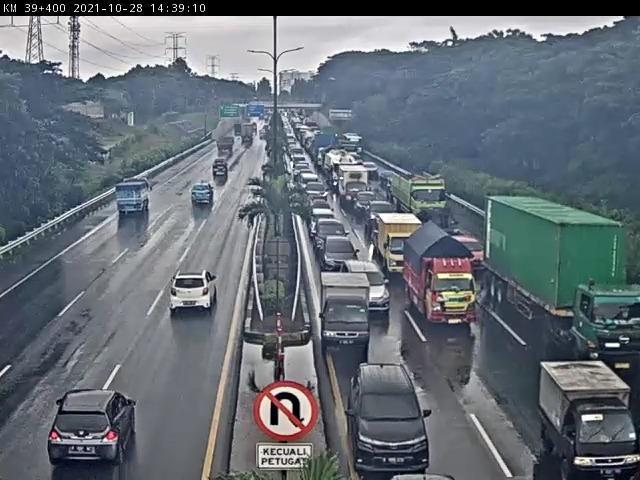car: (342, 350, 448, 478), (47, 386, 156, 478), (164, 264, 224, 324), (343, 259, 399, 320), (452, 232, 490, 287), (317, 232, 358, 276), (315, 221, 353, 258), (187, 180, 220, 212), (210, 156, 236, 180)
truck: (484, 194, 640, 380), (534, 354, 640, 480), (404, 222, 491, 329), (317, 262, 375, 357), (385, 170, 455, 233), (374, 213, 424, 277), (112, 177, 159, 218)
